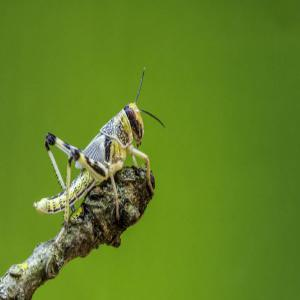locust: (35, 88, 156, 221)
